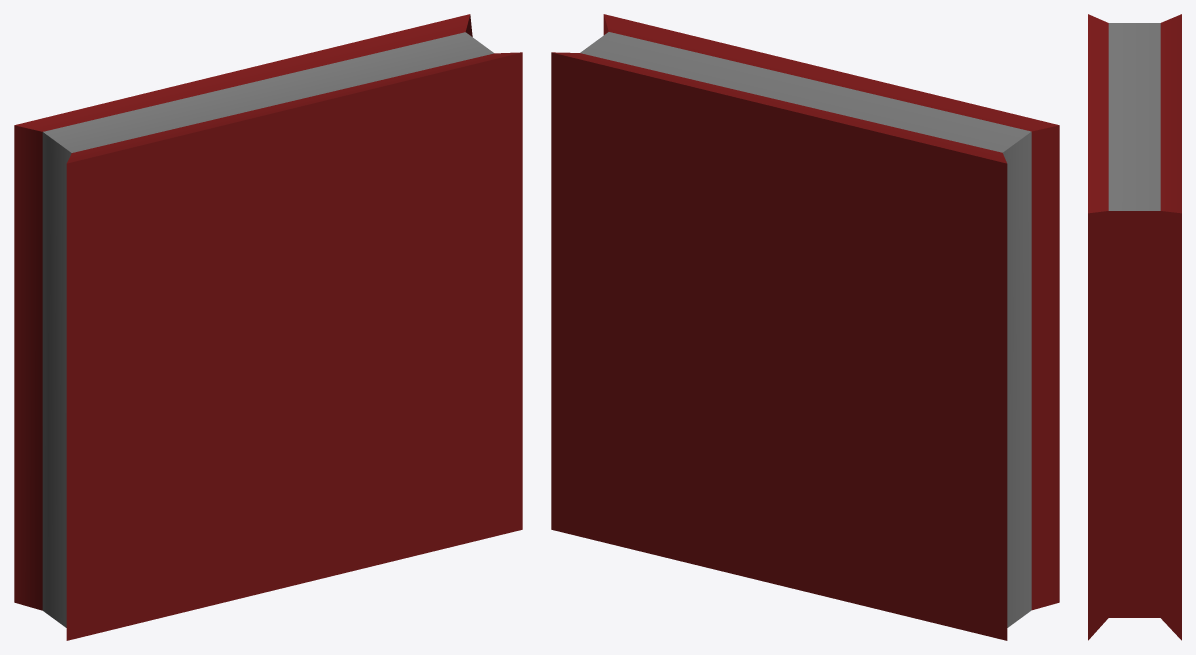
Rendered from galleta.obj.
3 views of the same model, side by side, from view 1: azimuth 30°, elevation 25°; view 2: azimuth 150°, elevation 25°; view 3: azimuth 270°, elevation 25° (orthographic). The views are drawn at different scales.
Visible parts, largest first — view 1: pCube5; view 2: pCube5; view 3: pCube5.
Part boxes in pixels (x1,y1,x2,y2): pCube5: (14,14,522,640); pCube5: (551,14,1059,640); pCube5: (1088,14,1181,640).
Bounding box in the file's own units: 21.5 × 21.66 × 4.28.
